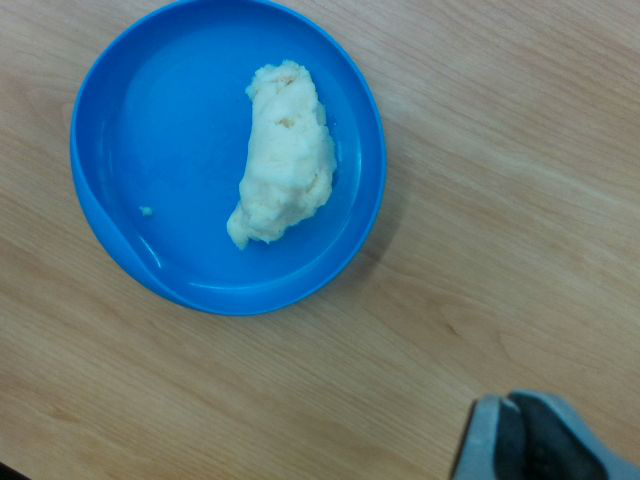mashed_potato: (226, 60, 335, 245)
